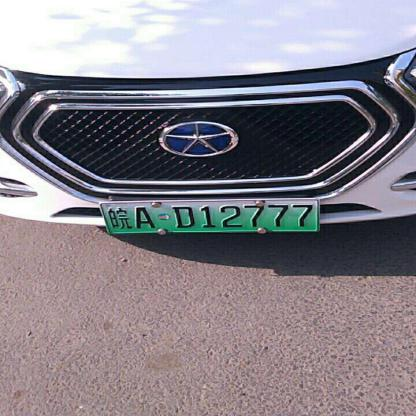lp: (99, 200, 316, 234)
